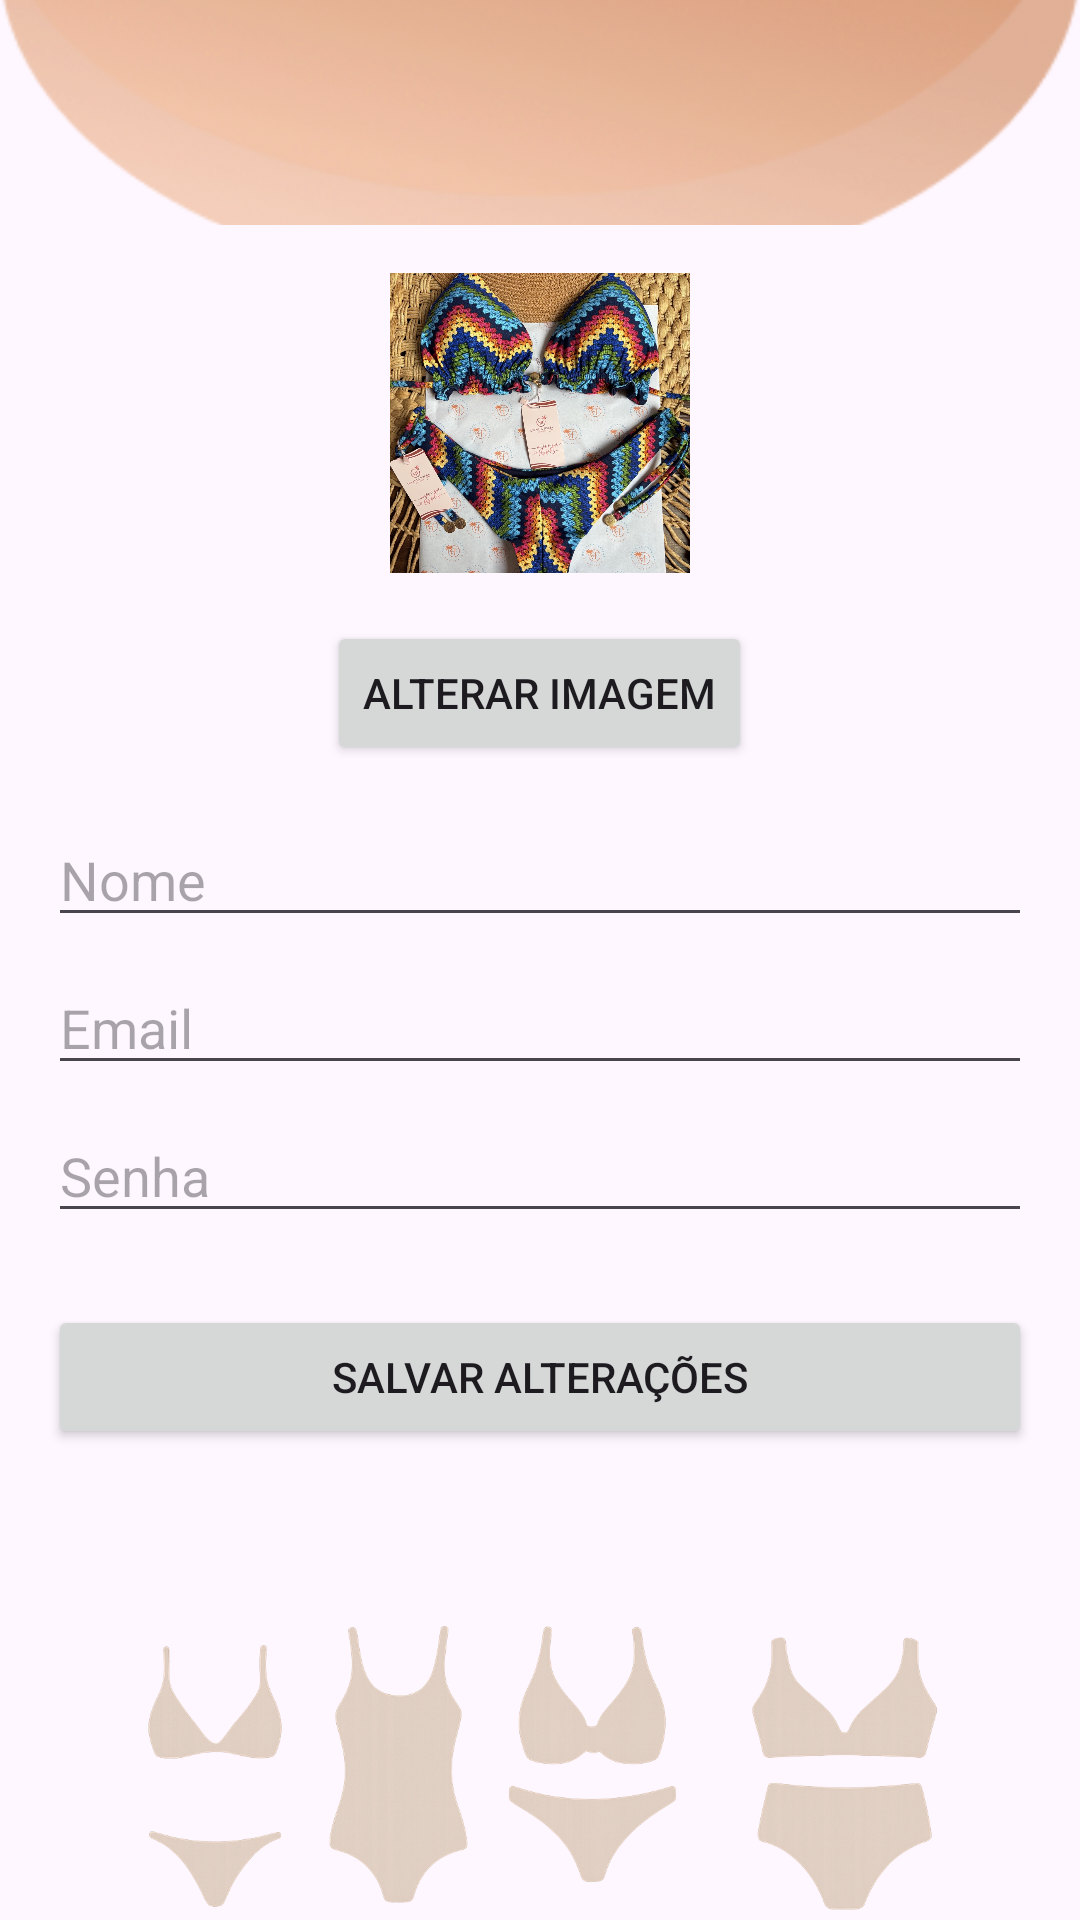

Screen size 1080*1920. Icon name, then its center in pixels as point (x, y):
produto exemplo: point (540, 423)
